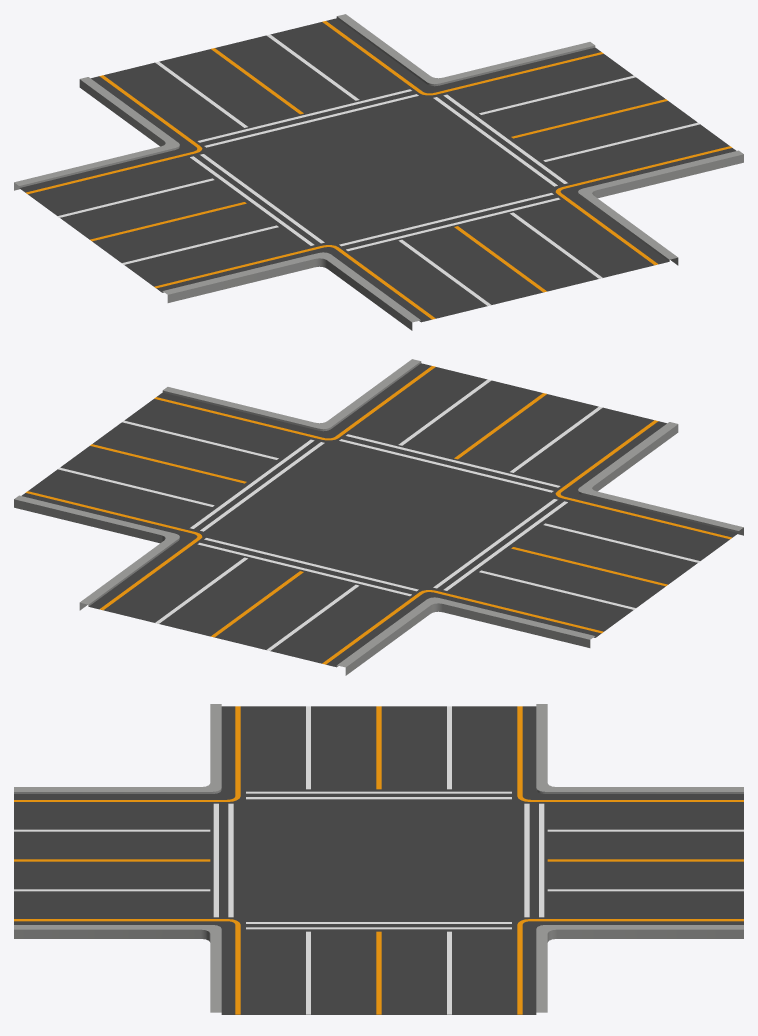
The model's file is Road_A_2L_2_6.fbx.
3 renders of one model, top to bottom at view 1: azimuth 30°, elevation 25°; view 2: azimuth 150°, elevation 25°; view 3: azimuth 270°, elevation 25°, orthographic. The views are drawn at different scales.
Parts seen in each view (by area): view 1: Road_A_2L_2_6; view 2: Road_A_2L_2_6; view 3: Road_A_2L_2_6.
Boxes of the visible parts, x1=… form: Road_A_2L_2_6: x1=14, y1=14, x2=743, y2=330; Road_A_2L_2_6: x1=14, y1=359, x2=743, y2=675; Road_A_2L_2_6: x1=14, y1=704, x2=743, y2=1014.
Size of the model in its own units: 2975 by 41.49 by 2975.
